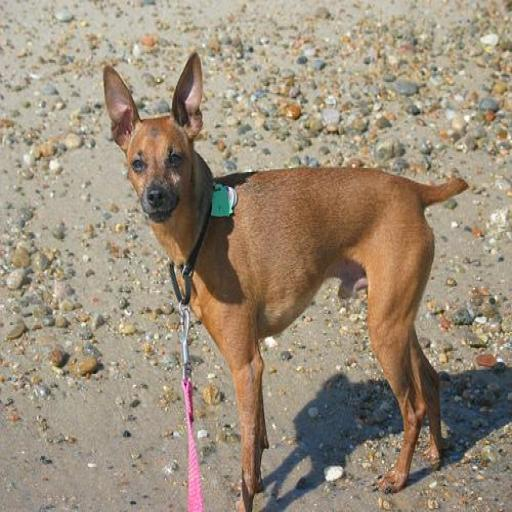dog_face: (102, 55, 205, 226)
